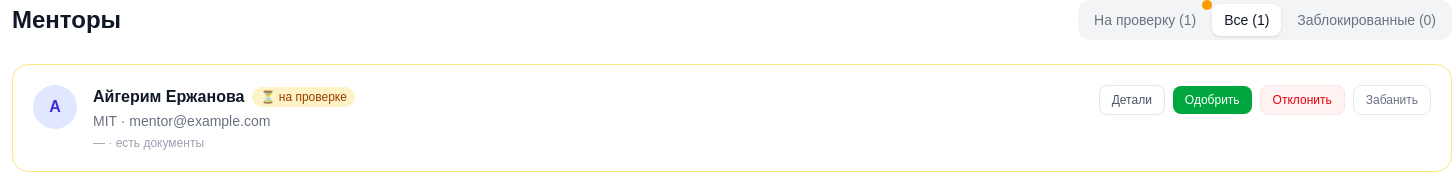
Test: CRMMentorsPage › approves a mentor and refetches the list
Expected: the link "Айгерим Ержанова" is shown, [93,85,244,109]
What coordinates should you click on to do the following:
click the button "Одобрить"
I would click on:
 (1212, 100)
Its box is [1173,86,1252,114].
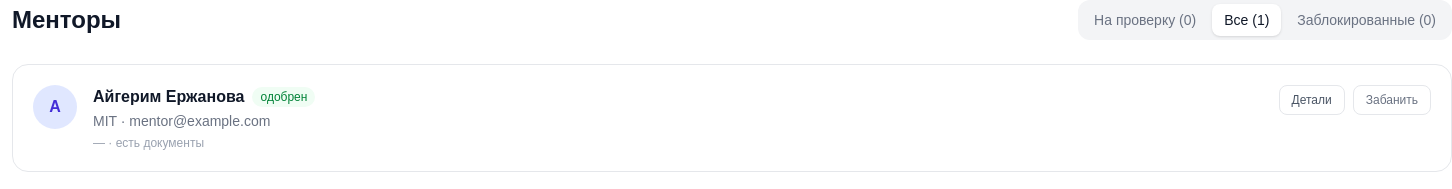
Now the text "одобрен" is shown, box [252,87,315,107]
Now the text "⏳ на проверке" is gone
